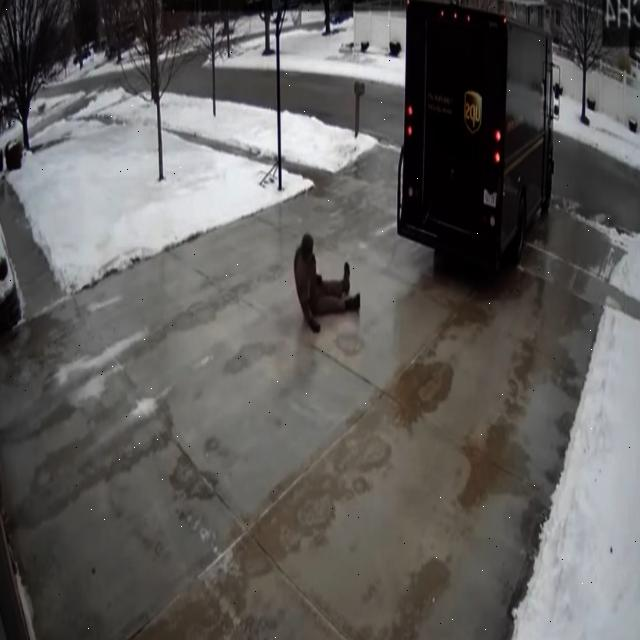fallen: (294, 233, 360, 331)
